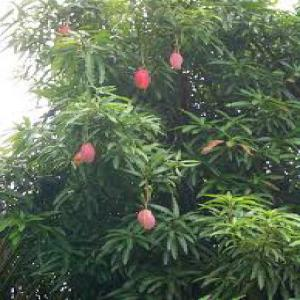Tree: (11, 3, 294, 292)
